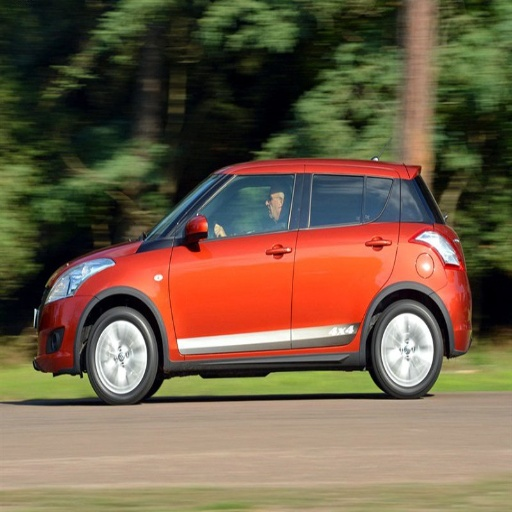back_left_door: (292, 169, 396, 347)
front_left_door: (170, 169, 302, 353)
